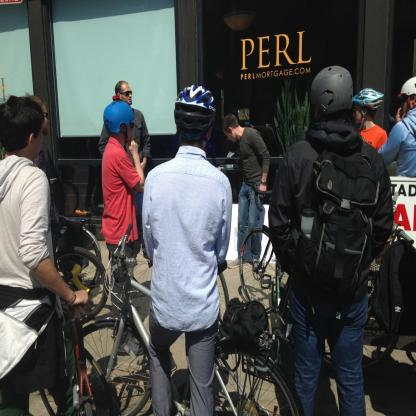Helmet: (174, 84, 217, 169), (311, 66, 359, 123), (103, 96, 136, 154), (352, 85, 382, 112), (399, 78, 416, 116)
